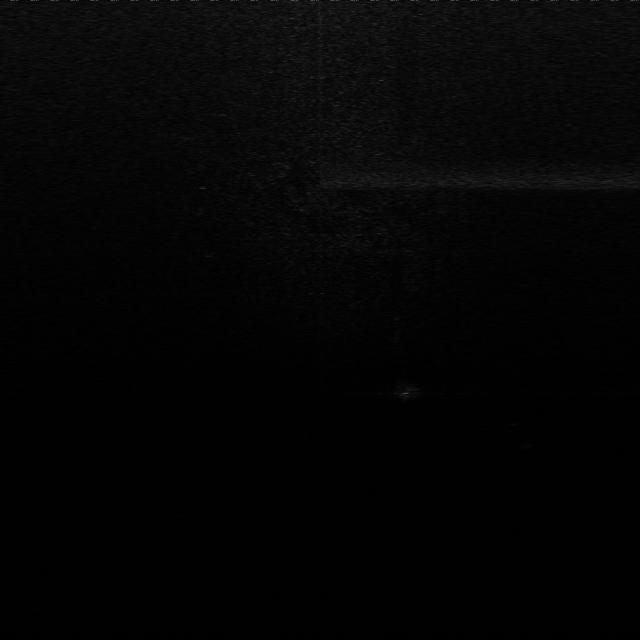circle cage: (378, 375, 426, 408)
